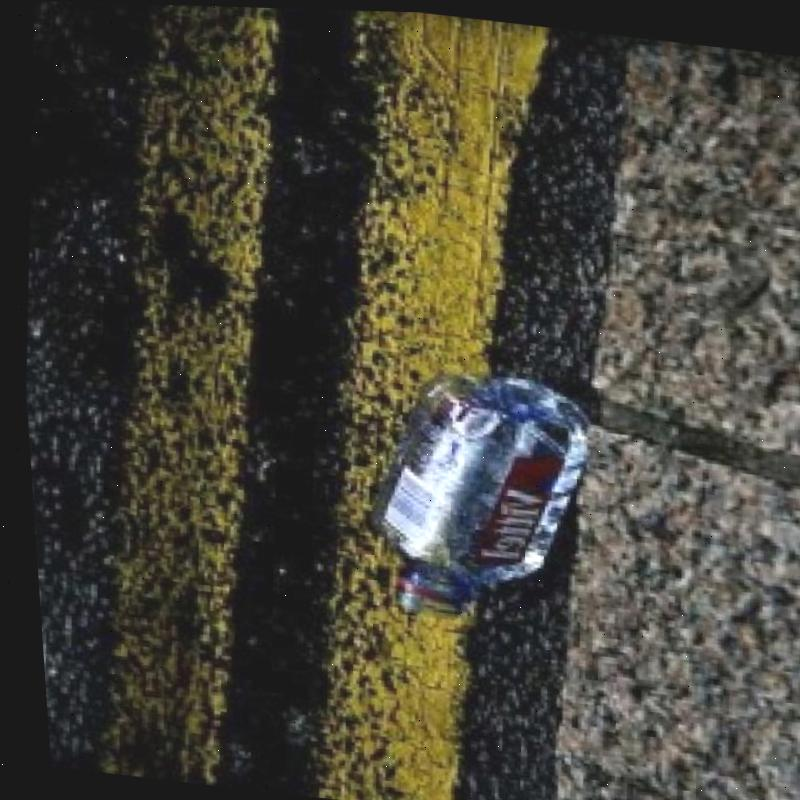botella: (353, 358, 595, 634)
